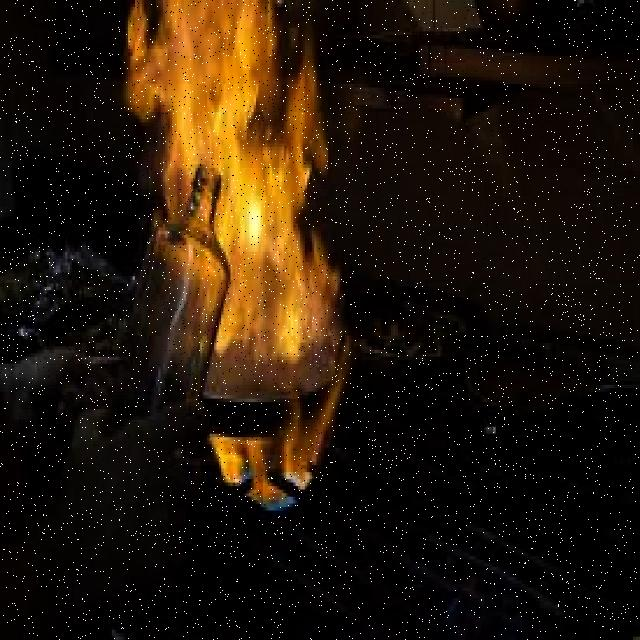fire: (122, 3, 386, 574)
